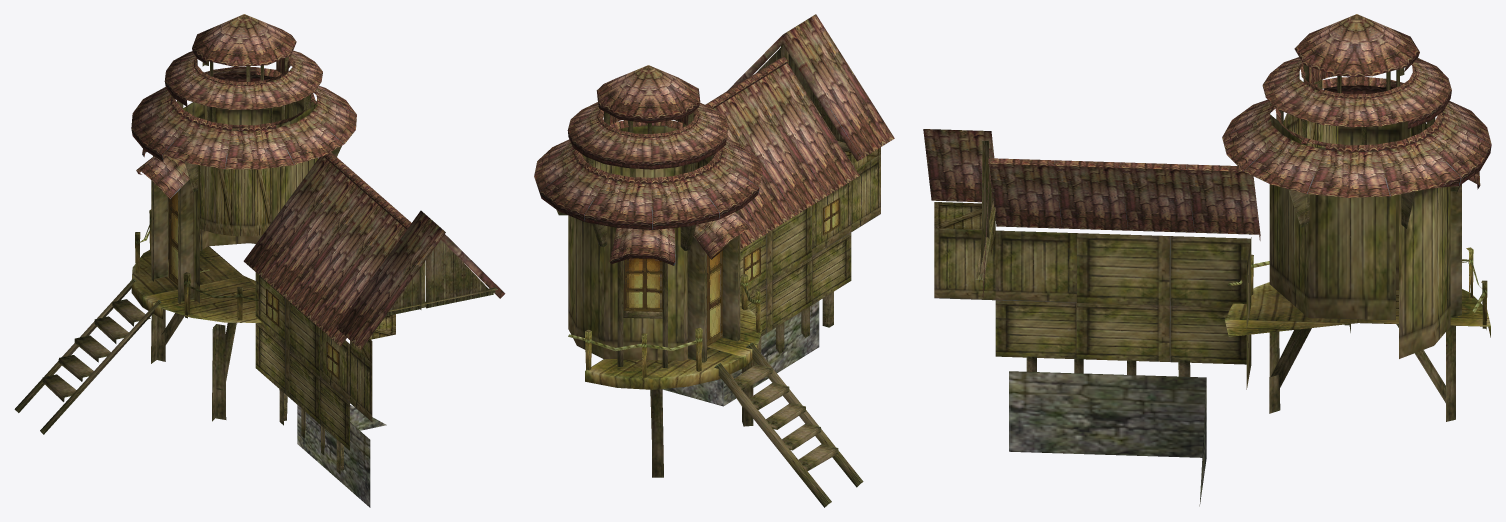
File: S_Build_3100_002.FBX
3 renders of one model, left to right at view 1: azimuth 30°, elevation 25°; view 2: azimuth 150°, elevation 25°; view 3: azimuth 270°, elevation 25°, orthographic. The views are drawn at different scales.
Parts seen in each view (by area): view 1: S_Build_Xsc059_003, S_Build_Xsc058_002; view 2: S_Build_Xsc059_003, S_Build_Xsc058_002; view 3: S_Build_Xsc058_002, S_Build_Xsc059_003.
Boxes of the visible parts, box(x1,y1,x2,y2) form: S_Build_Xsc059_003: box(14, 14, 356, 434); S_Build_Xsc058_002: box(243, 152, 505, 507); S_Build_Xsc059_003: box(534, 65, 863, 507); S_Build_Xsc058_002: box(662, 14, 894, 406); S_Build_Xsc058_002: box(923, 129, 1260, 506); S_Build_Xsc059_003: box(1222, 14, 1491, 421).
Size of the model in its own units: 1080 by 1269 by 1452.
